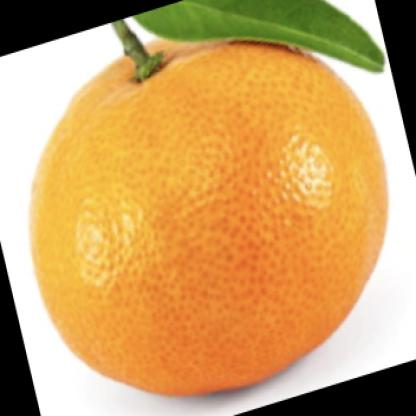orange: (25, 5, 398, 401)
